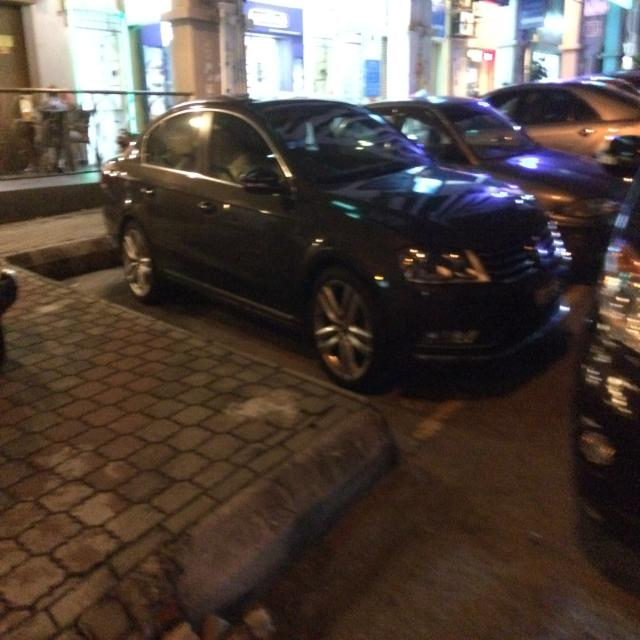Car: (109, 73, 566, 379), (538, 47, 640, 537)
